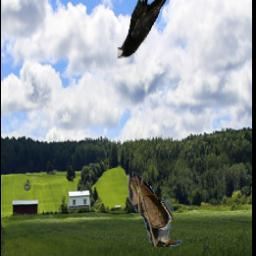Crow: (116, 0, 169, 60)
Cuckoo: (128, 173, 194, 248)
